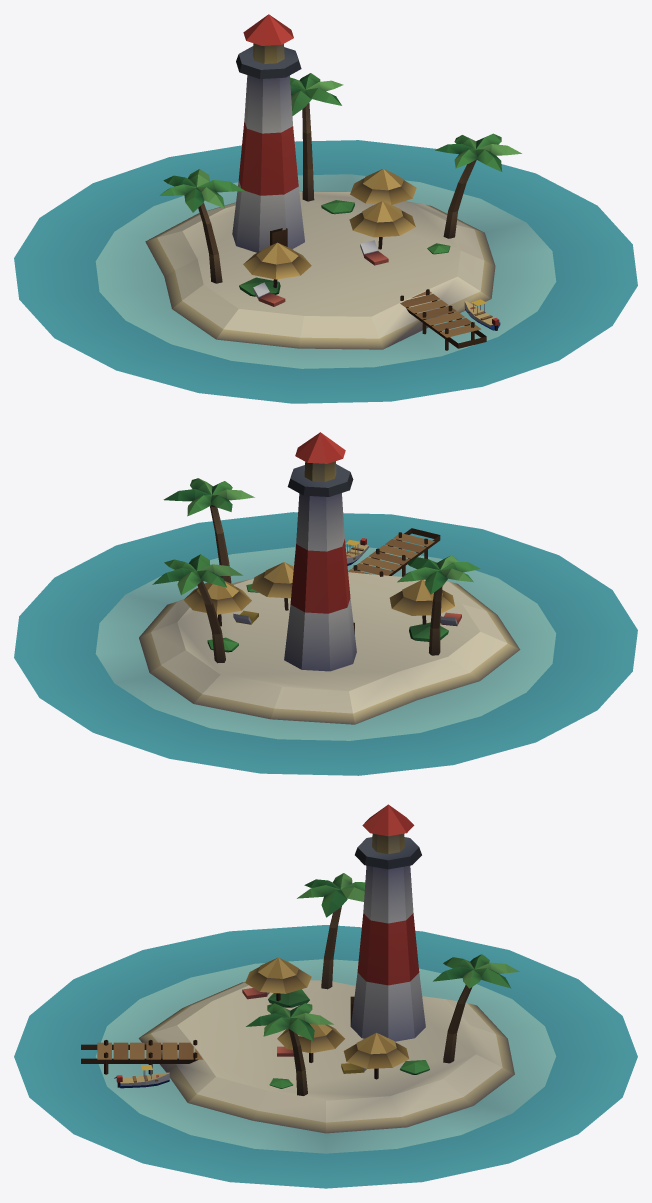
File: los_roques.glb
3 views of the same model, one above another, from view 1: azimuth 30°, elevation 25°; view 2: azimuth 150°, elevation 25°; view 3: azimuth 270°, elevation 25° (orthographic).
Visible parts, largest first — view 1: shallows, island, lighthouse, palms, palapas, dock, loungers, boat; view 2: shallows, island, lighthouse, palms, palapas, dock, loungers; view 3: shallows, island, lighthouse, palms, palapas, dock, boat, loungers.
Part boxes in pixels (left/top/right/bottom): shallows: left=14, top=140, right=637, bottom=403; island: left=145, top=191, right=495, bottom=349; lighthouse: left=232, top=14, right=304, bottom=252; palms: left=159, top=73, right=521, bottom=283; palapas: left=243, top=168, right=416, bottom=287; dock: left=400, top=289, right=486, bottom=350; loungers: left=253, top=212, right=388, bottom=306; boat: left=464, top=299, right=500, bottom=330; shallows: left=14, top=512, right=637, bottom=775; island: left=139, top=572, right=520, bottom=724; lighthouse: left=284, top=432, right=356, bottom=671; palms: left=152, top=478, right=480, bottom=663; palapas: left=184, top=562, right=454, bottom=626; dock: left=348, top=528, right=440, bottom=576; loungers: left=233, top=610, right=461, bottom=626; shallows: left=14, top=925, right=637, bottom=1188; island: left=138, top=980, right=514, bottom=1133; lighthouse: left=350, top=804, right=425, bottom=1041; palms: left=246, top=873, right=519, bottom=1095; palapas: left=245, top=957, right=408, bottom=1079; dock: left=81, top=1040, right=202, bottom=1074; boat: left=114, top=1065, right=169, bottom=1088; loungers: left=242, top=988, right=366, bottom=1073.
Size of the model in its own units: 37.8 by 16.51 by 37.8.
